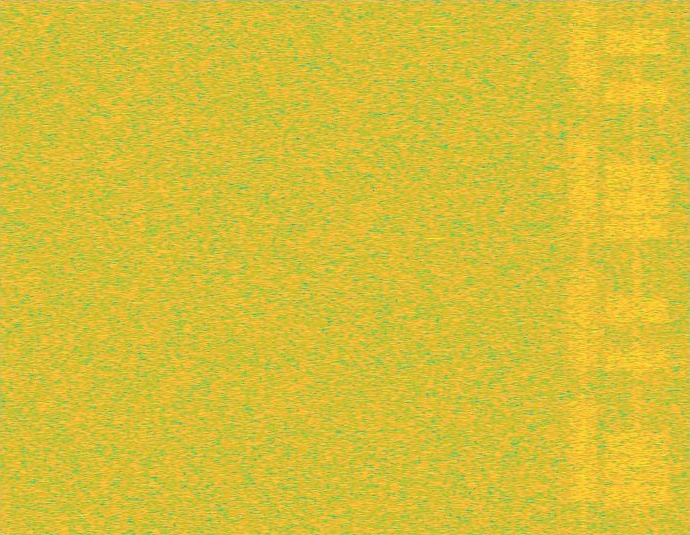5G: (566, 0, 601, 534)
DSSS: (632, 0, 642, 534), (579, 0, 587, 534)
LTE: (602, 0, 671, 534)
Radar: (428, 0, 442, 534)
